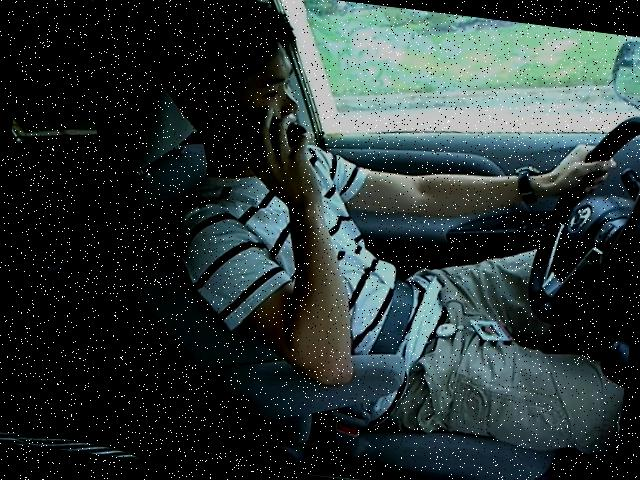c2 - Talking on the phone: (113, 0, 639, 423)
